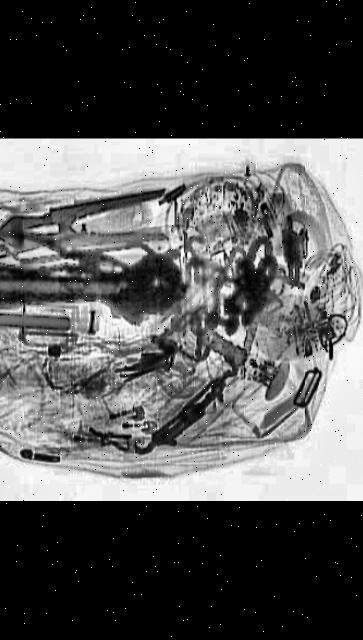Pliers: (0, 190, 185, 265)
